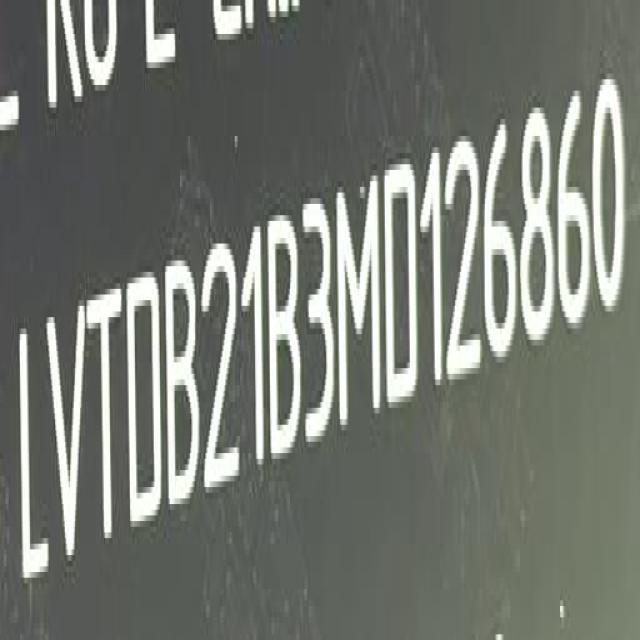0: (593, 70, 630, 320)
1: (419, 145, 445, 400), (244, 227, 266, 478)
2: (443, 136, 483, 386), (205, 255, 245, 496)
3: (304, 193, 338, 443)
6: (554, 82, 592, 332), (483, 120, 522, 363)
8: (520, 106, 557, 347)
B: (168, 260, 205, 508), (268, 217, 304, 464)
D: (125, 273, 163, 531), (386, 160, 424, 410)
L: (13, 319, 49, 594)
M: (340, 170, 386, 428)
T: (89, 283, 125, 560)
V: (43, 299, 87, 573)
